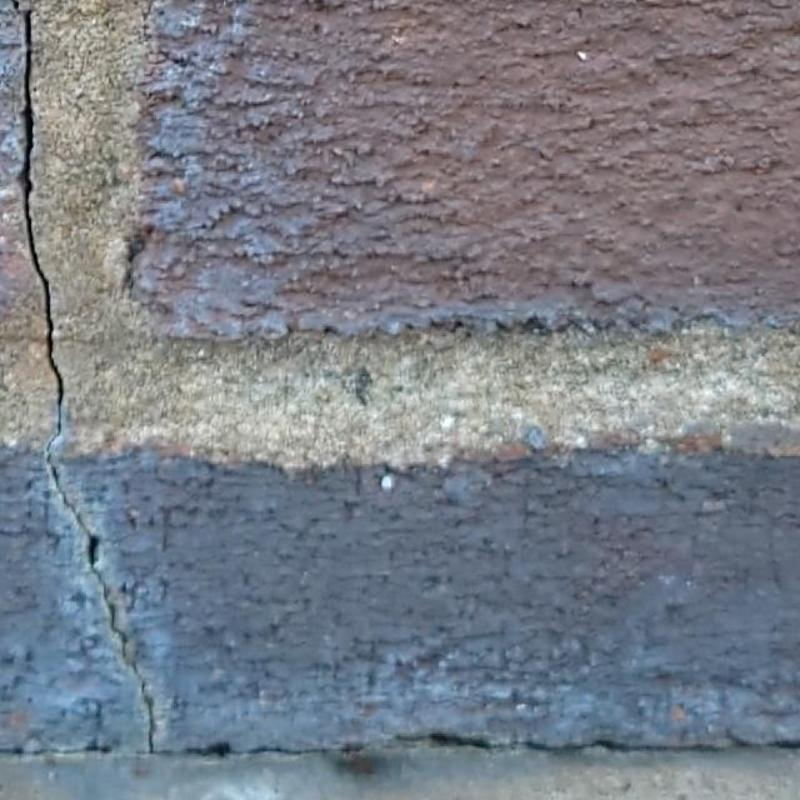pothole: (47, 431, 155, 753), (22, 8, 64, 436), (396, 732, 799, 754), (0, 739, 366, 762)
